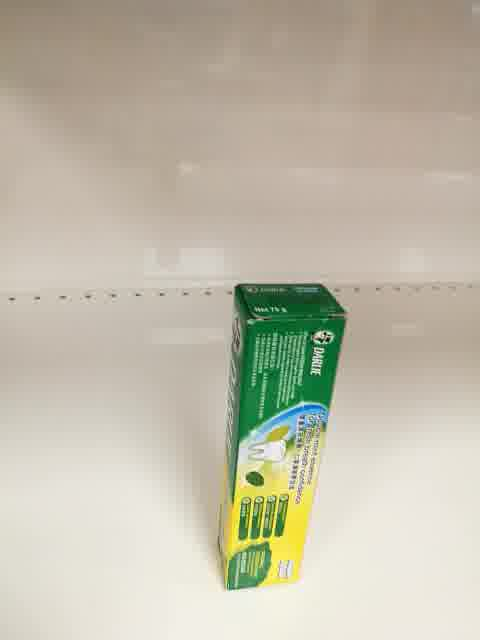toothpaste: (215, 282, 346, 590)
